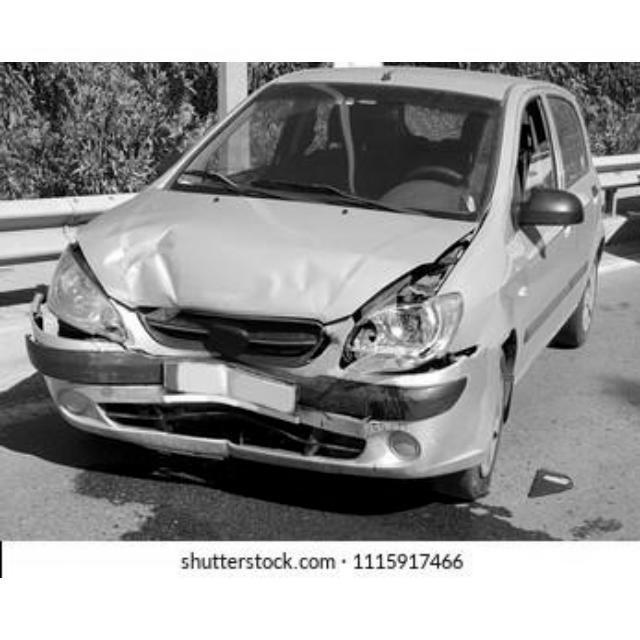bonnet-dent: (72, 196, 470, 325)
front-bumper-dent: (18, 295, 493, 464)
